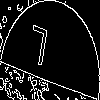L: (25, 24, 49, 76)
